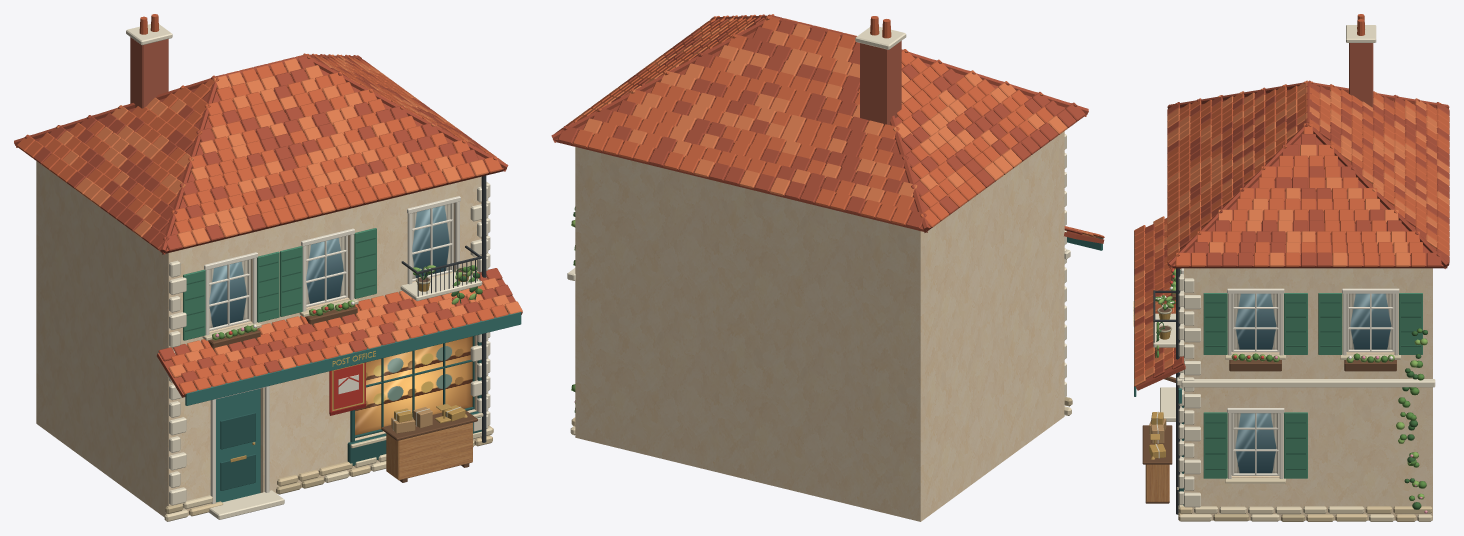
3 views of the same model, side by side, from view 1: azimuth 30°, elevation 25°; view 2: azimuth 150°, elevation 25°; view 3: azimuth 270°, elevation 25° (orthographic). The views are drawn at different scales.
Visible parts, largest first — view 1: square_plaster, square_terracotta, square_terracotta_dark, square_terracotta_light, square_limestone_pale, square_teal, square_window_shop, square_white, square_window_pane, square_shutter, square_teal_dark, square_oak (+9 smaller); view 2: square_plaster, square_terracotta, square_terracotta_dark, square_terracotta_light, square_brick, square_limestone_pale; view 3: square_plaster, square_terracotta, square_terracotta_dark, square_terracotta_light, square_shutter, square_limestone_pale, square_window_pane, square_white, square_limestone, square_wood_dark, square_brick, square_limestone_warm (+8 smaller).
Boxes of the visible parts, bbox=[...] form: square_plaster: bbox=[36, 161, 481, 517]; square_terracotta: bbox=[17, 14, 508, 394]; square_terracotta_dark: bbox=[14, 54, 522, 397]; square_terracotta_light: bbox=[55, 54, 522, 377]; square_limestone_pale: bbox=[126, 24, 490, 519]; square_teal: bbox=[185, 312, 521, 502]; square_window_shop: bbox=[355, 336, 472, 435]; square_white: bbox=[204, 196, 460, 503]; square_window_pane: bbox=[209, 204, 450, 328]; square_shutter: bbox=[183, 228, 376, 340]; square_teal_dark: bbox=[220, 336, 481, 490]; square_oak: bbox=[386, 422, 472, 480]; square_plaster: bbox=[575, 131, 1064, 521]; square_terracotta: bbox=[565, 14, 1104, 238]; square_terracotta_dark: bbox=[551, 14, 1104, 243]; square_terracotta_light: bbox=[573, 15, 1093, 236]; square_brick: bbox=[860, 41, 901, 126]; square_limestone_pale: bbox=[567, 26, 1070, 397]; square_plaster: bbox=[1184, 268, 1432, 520]; square_terracotta: bbox=[1134, 14, 1449, 378]; square_terracotta_dark: bbox=[1134, 80, 1449, 390]; square_terracotta_light: bbox=[1134, 80, 1449, 386]; square_shutter: bbox=[1203, 293, 1422, 478]; square_limestone_pale: bbox=[1153, 25, 1435, 507]; square_window_pane: bbox=[1234, 293, 1392, 473]; square_white: bbox=[1155, 268, 1399, 478]; square_limestone: bbox=[1176, 269, 1432, 521]; square_wood_dark: bbox=[1142, 274, 1396, 503]; square_brick: bbox=[1349, 43, 1373, 107]; square_limestone_warm: bbox=[1178, 506, 1432, 521].
Bounding box in the file's own units: 7.89 × 9.02 × 6.6.
34 materials, 4 textured.
